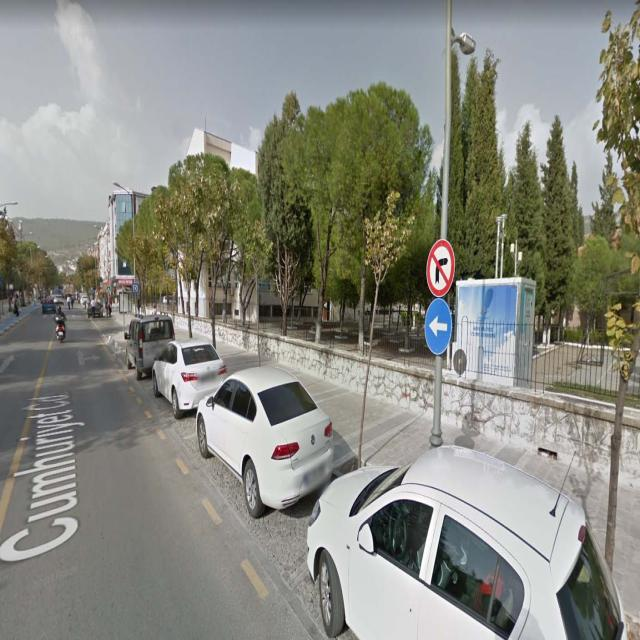sagadonulmez: (427, 240, 455, 298)
sol: (424, 298, 452, 356)
